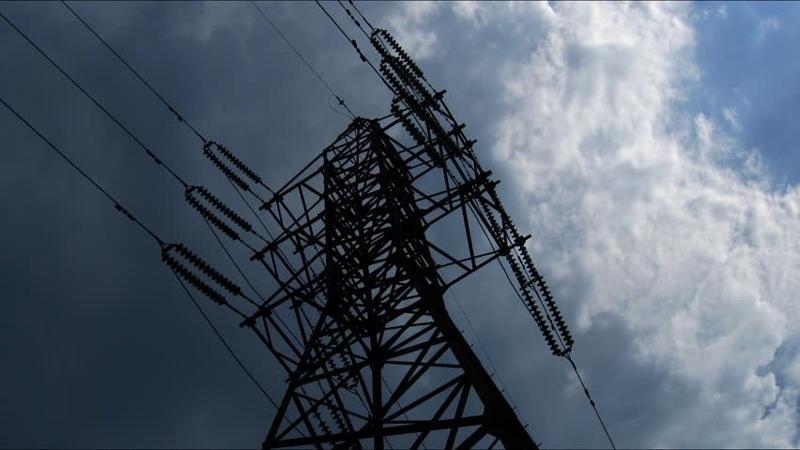power_tower: (161, 26, 573, 450)
